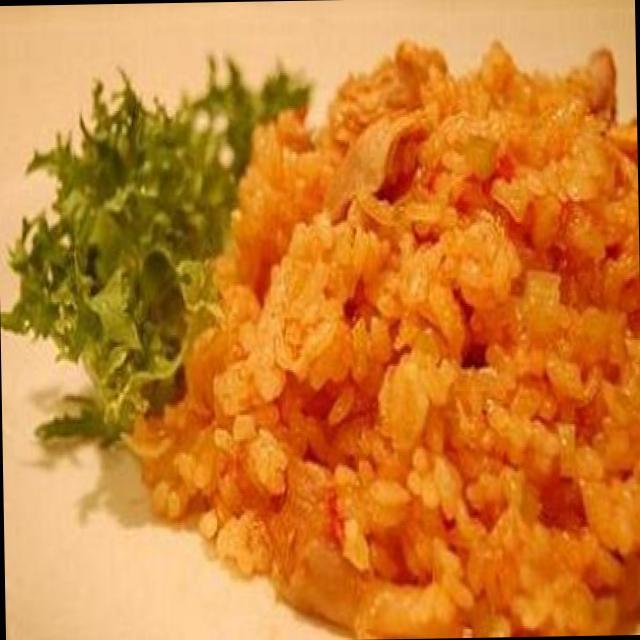Rice: (192, 14, 640, 640)
